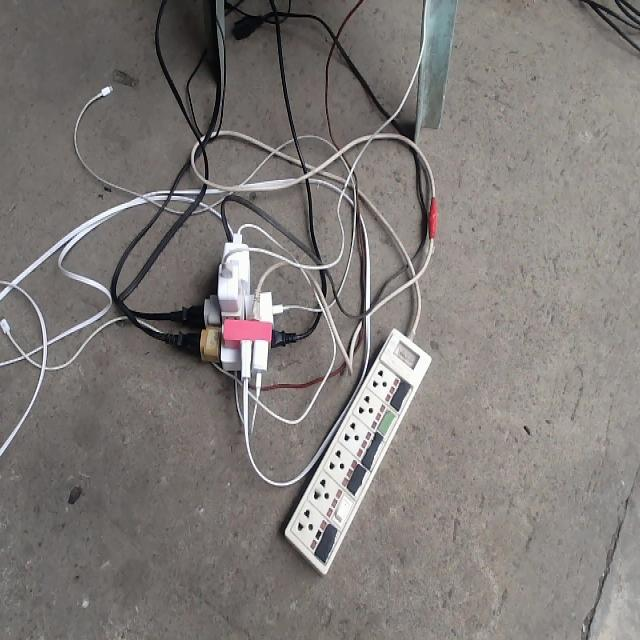-: (177, 218, 300, 398)
